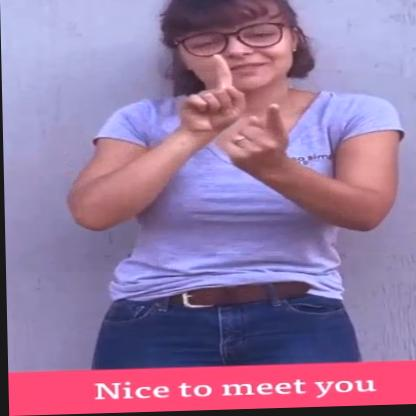NiceToMeetYou: (58, 0, 403, 375)
